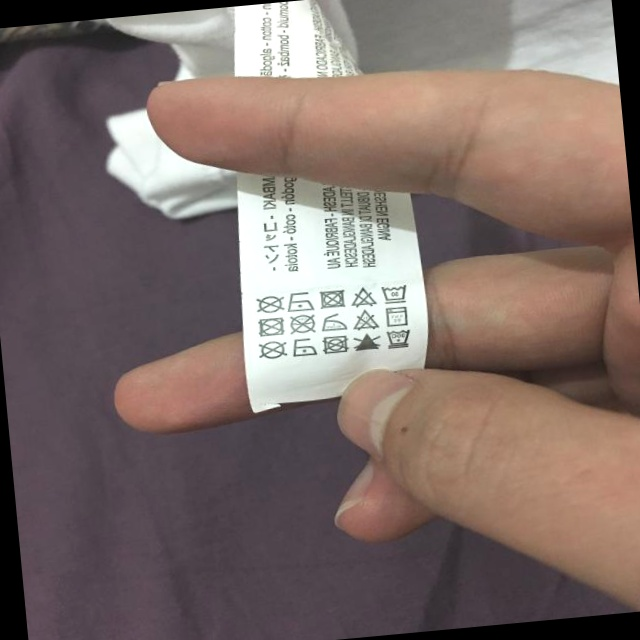30C: (378, 280, 411, 306), (382, 304, 408, 328), (384, 329, 413, 350)
DN_bleach: (351, 309, 380, 332), (352, 332, 381, 352), (350, 286, 376, 307)
DN_dry_clean: (287, 313, 318, 337), (258, 339, 288, 361), (255, 294, 284, 315)
DN_tumble_dry: (318, 287, 347, 311), (321, 332, 350, 356), (257, 316, 286, 338)
iron_low: (285, 290, 315, 314), (291, 336, 318, 360), (318, 312, 348, 332)
